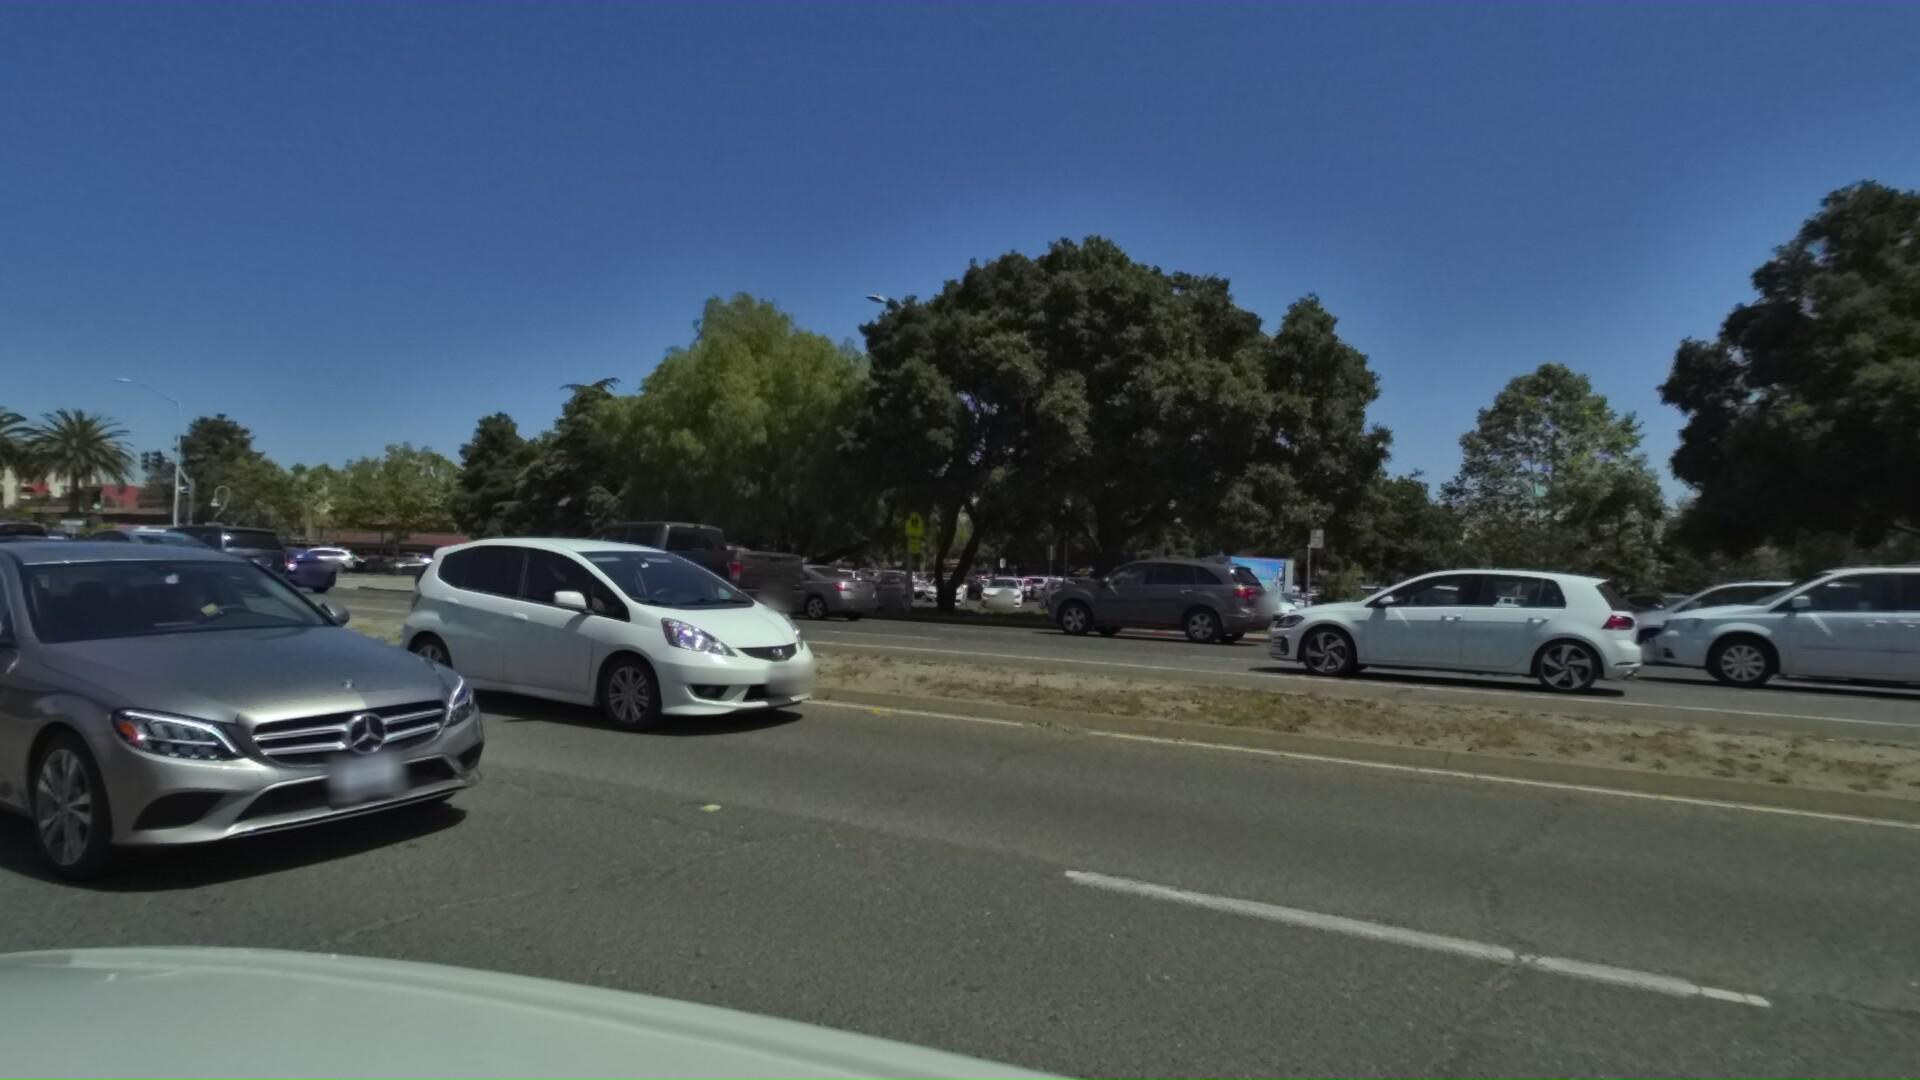car: (0, 513, 555, 919), (371, 513, 884, 745), (1580, 547, 1920, 707), (1189, 553, 1565, 690), (1543, 566, 1902, 690), (485, 518, 794, 636), (1734, 563, 1920, 720), (1258, 571, 1495, 673), (1000, 549, 1245, 644), (18, 526, 219, 603), (564, 539, 754, 617), (104, 520, 285, 593), (692, 556, 869, 617), (392, 541, 549, 603), (193, 539, 334, 592), (83, 524, 220, 574), (0, 517, 73, 576), (268, 545, 349, 575), (378, 556, 442, 578)
